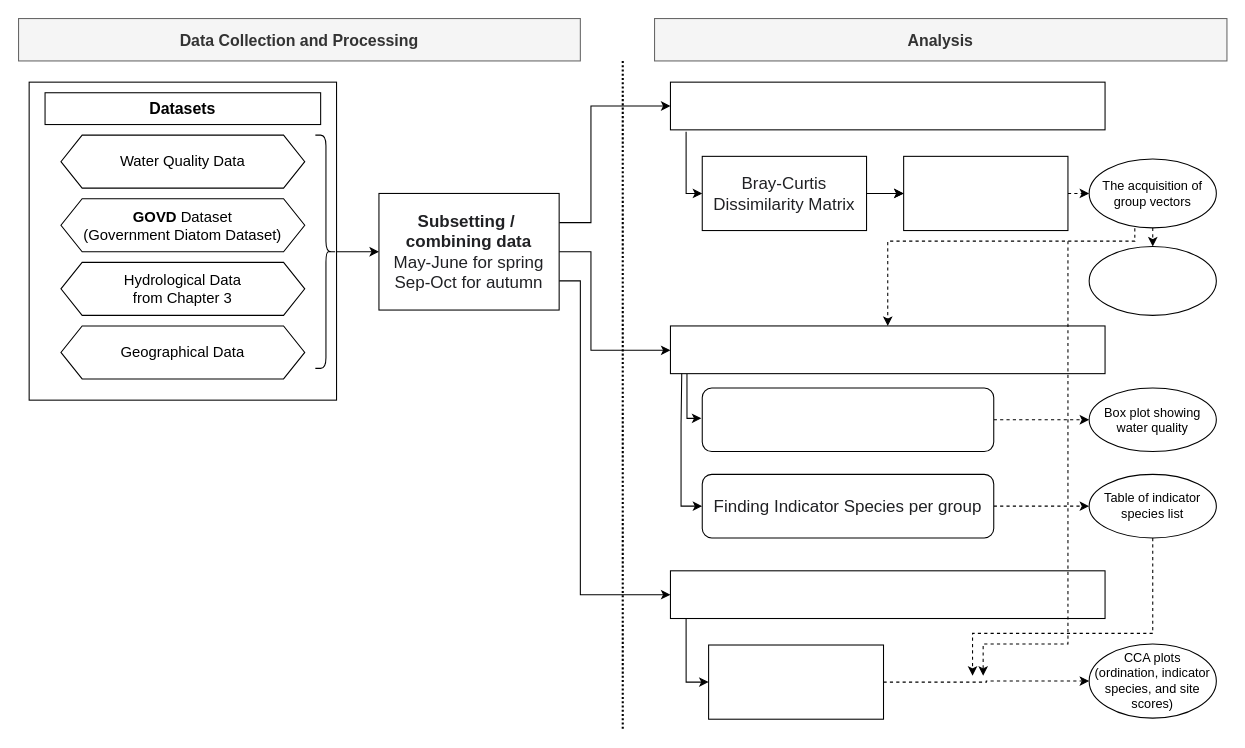
This 1245x748 diagram has some shape labels left out. Here are the shapes that lost their labels. From the top down, the centre of each, then its label:
At (x=887, y=105): "Classification of diatom groups and its distribution".
At (x=985, y=193): "Cluster Analysis".
At (x=1152, y=280): "Visualisation of distribution".
At (x=887, y=349): "Understanding the feature of diatom groups".
At (x=847, y=419): "Summarising water quality per group".
At (x=887, y=594): "Understanding the relationships between environmental variables and diatoms".
At (x=796, y=681): "Canonical Correspondence Analysis (CCA)".
